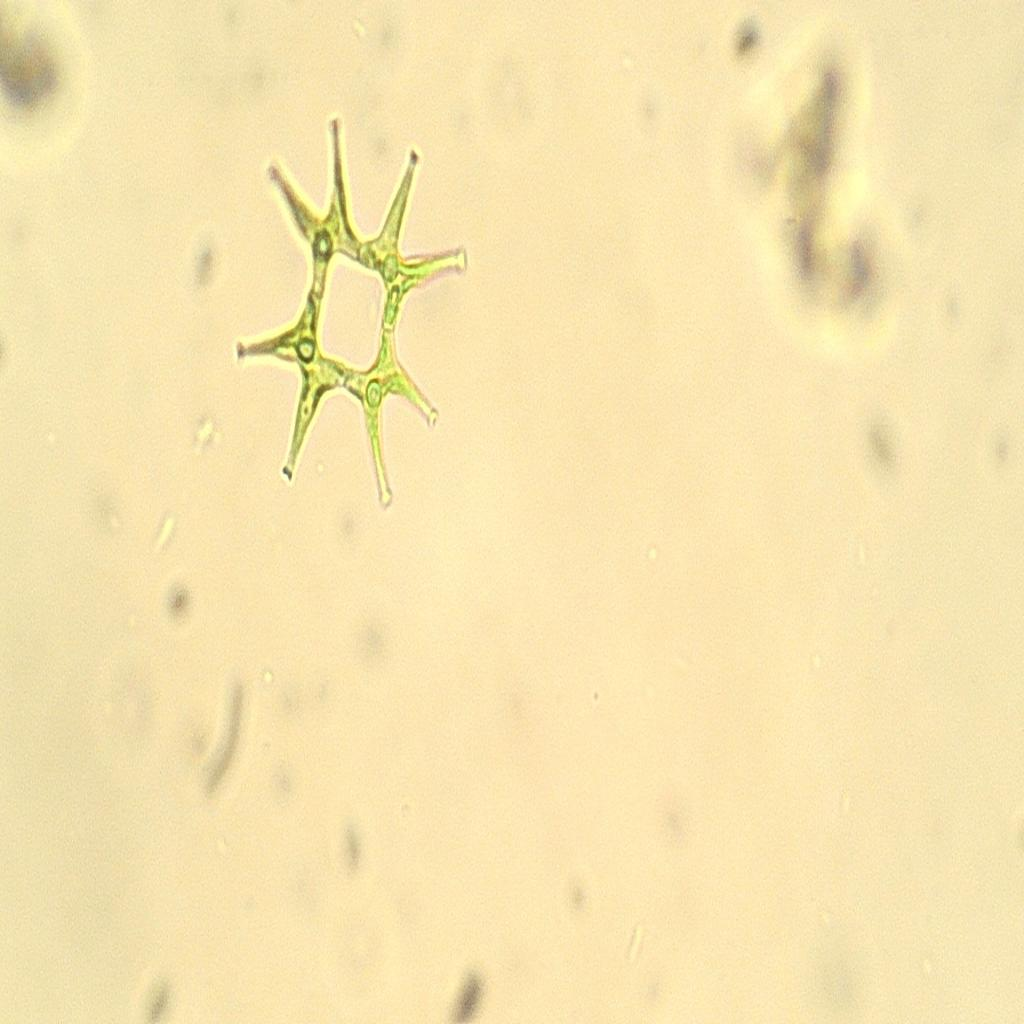Pediastrum_CO: (221, 104, 471, 539)
